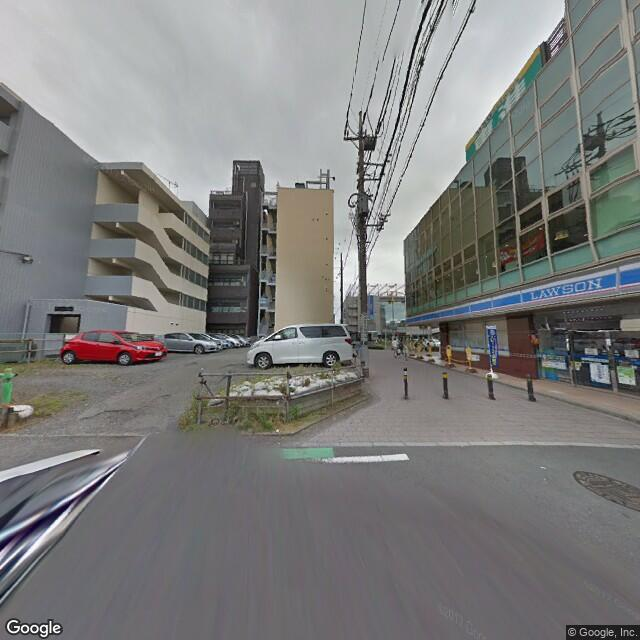lawson: (404, 258, 638, 331)
